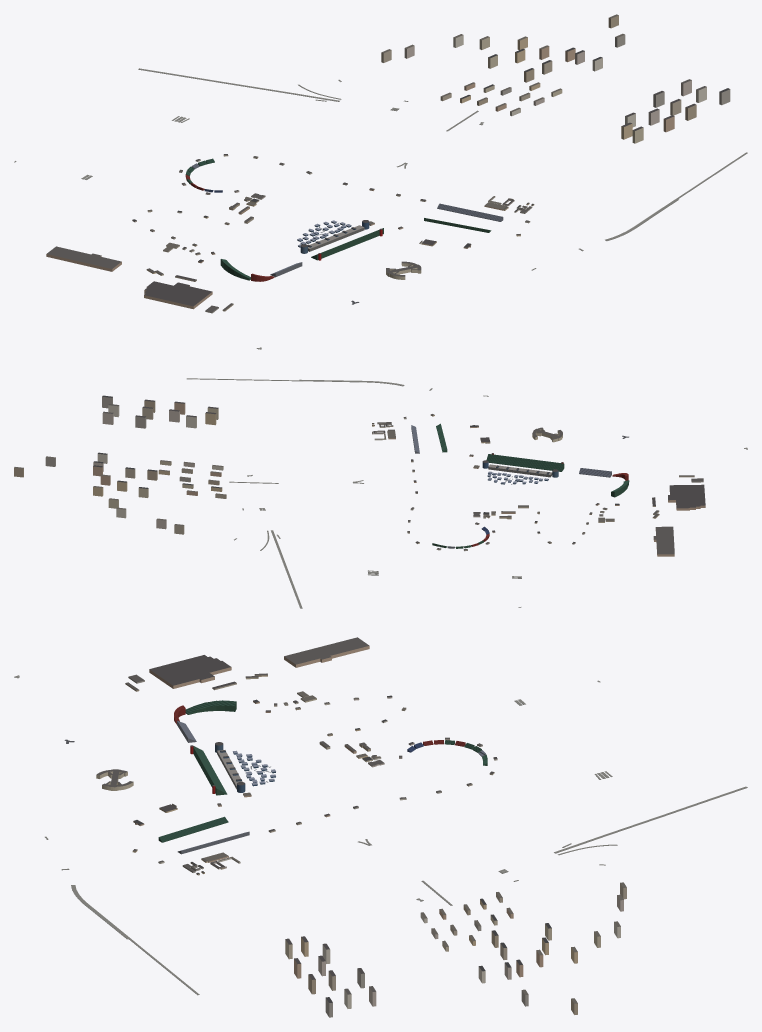
File: scenery.glb
3 renders of one model, top to bottom at view 1: azimuth 30°, elevation 25°; view 2: azimuth 150°, elevation 25°; view 3: azimuth 270°, elevation 25°, orthographic. The views are drawn at different scales.
Parts seen in each view (by area): view 1: chunk_12_16, chunk_12_15, chunk_14_15, chunk_18_13, chunk_16_16, chunk_19_15, chunk_18_15, chunk_14_16, chunk_13_16; view 2: chunk_12_16, chunk_14_15, chunk_14_16, chunk_18_13, chunk_12_15, chunk_18_15, chunk_19_15, chunk_16_16, chunk_13_16, chunk_19_14; view 3: chunk_12_16, chunk_12_15, chunk_14_15, chunk_13_16, chunk_16_16, chunk_15_16, chunk_14_16, chunk_18_13.
Boxes of the visible parts, x1,y1,x2,y2 form: chunk_12_16: (144,275,233,313); chunk_12_15: (46,242,179,275); chunk_14_15: (244,216,369,251); chunk_18_13: (488,45,552,101); chunk_16_16: (437,196,534,236); chunk_19_15: (663,88,730,132); chunk_18_15: (621,108,659,143); chunk_14_16: (300,228,383,260); chunk_13_16: (220,259,302,281); chunk_12_16: (652,475,705,510); chunk_14_15: (482,460,552,508); chunk_14_16: (486,454,564,477); chunk_18_13: (100,467,192,497); chunk_12_15: (598,510,674,556); chunk_18_15: (169,406,218,428); chunk_19_15: (102,395,185,419); chunk_16_16: (372,414,434,453); chunk_13_16: (579,468,629,497); chunk_19_14: (102,404,146,428); chunk_12_16: (125,655,236,691); chunk_12_15: (245,637,369,702); chunk_14_15: (217,741,330,792); chunk_13_16: (174,700,236,742); chunk_16_16: (132,831,249,875); chunk_15_16: (133,785,228,842); chunk_14_16: (190,742,232,795); chunk_18_13: (450,923,551,967).
Size of the model in its own units: 3313 by 60.96 by 2724.
